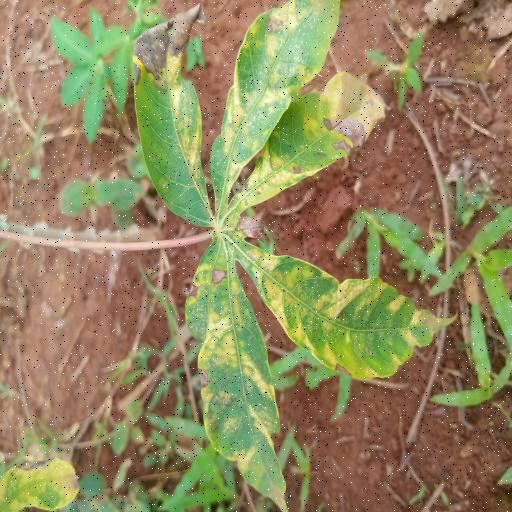Cassava_Mosaic: (129, 0, 449, 512)
